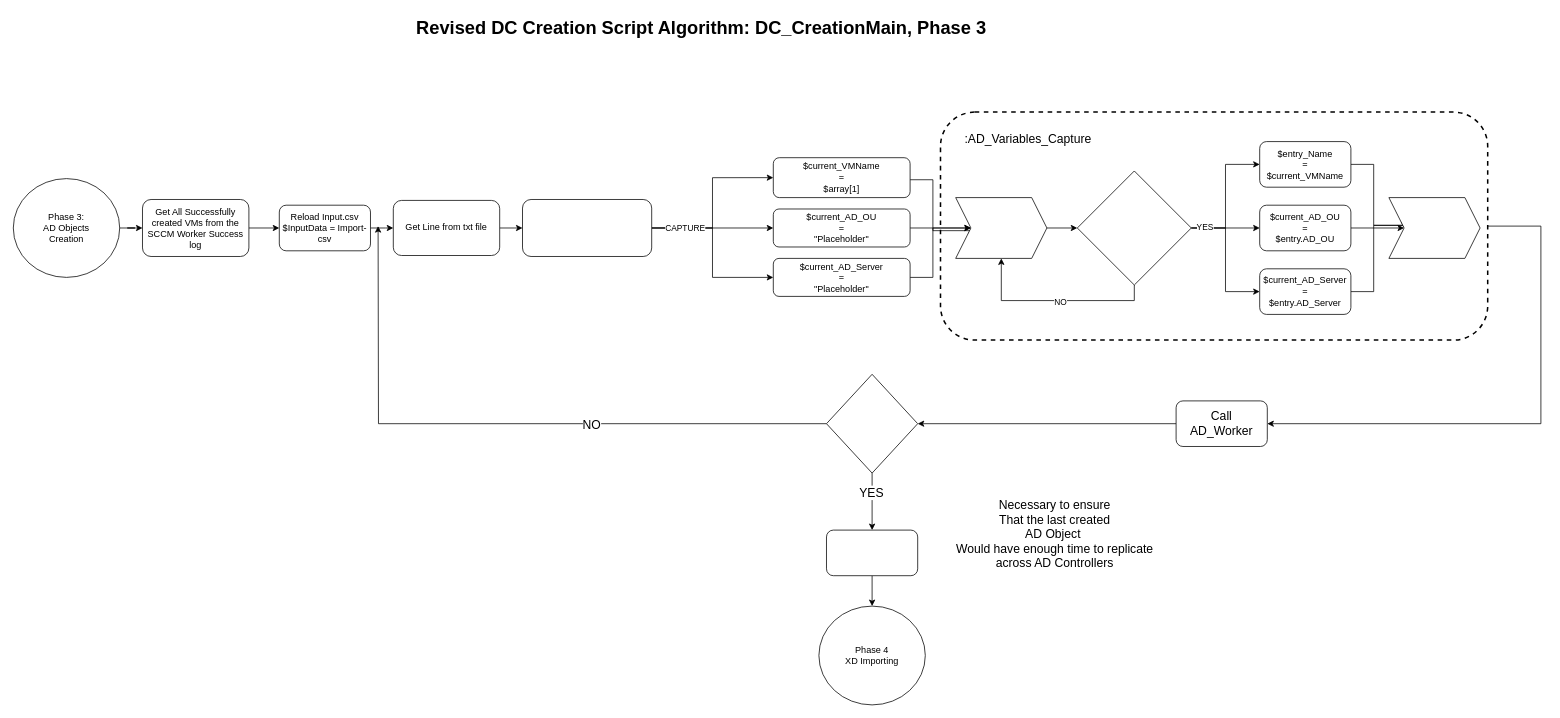
Image size: 1560x718. Some labels were removed from this diagram. The shapes that lost their labels are listed below. From the top down, each one's box as (x1, y1, x2, y2) in pixels, then its label:
(522, 199, 652, 256): Split line to an array separator: tab char
(955, 197, 1047, 258): Foreach $entry in $InputData
(1077, 170, 1191, 285): $entry_Name = $entry.VMName
(1388, 197, 1480, 258): Exit Foreach
(826, 374, 918, 473): Last Machine?
(826, 529, 918, 576): Wait 180 Seconds
